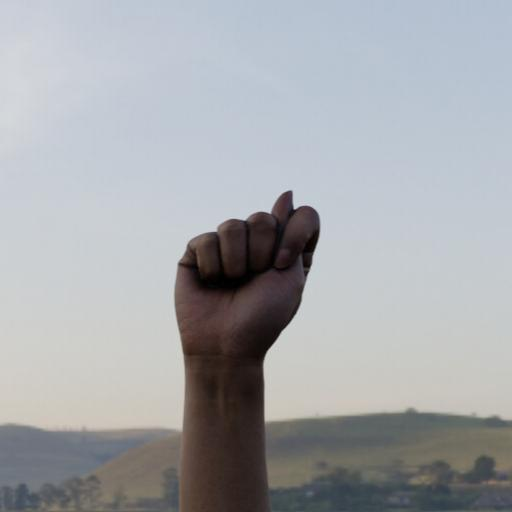T: (165, 183, 344, 512)
